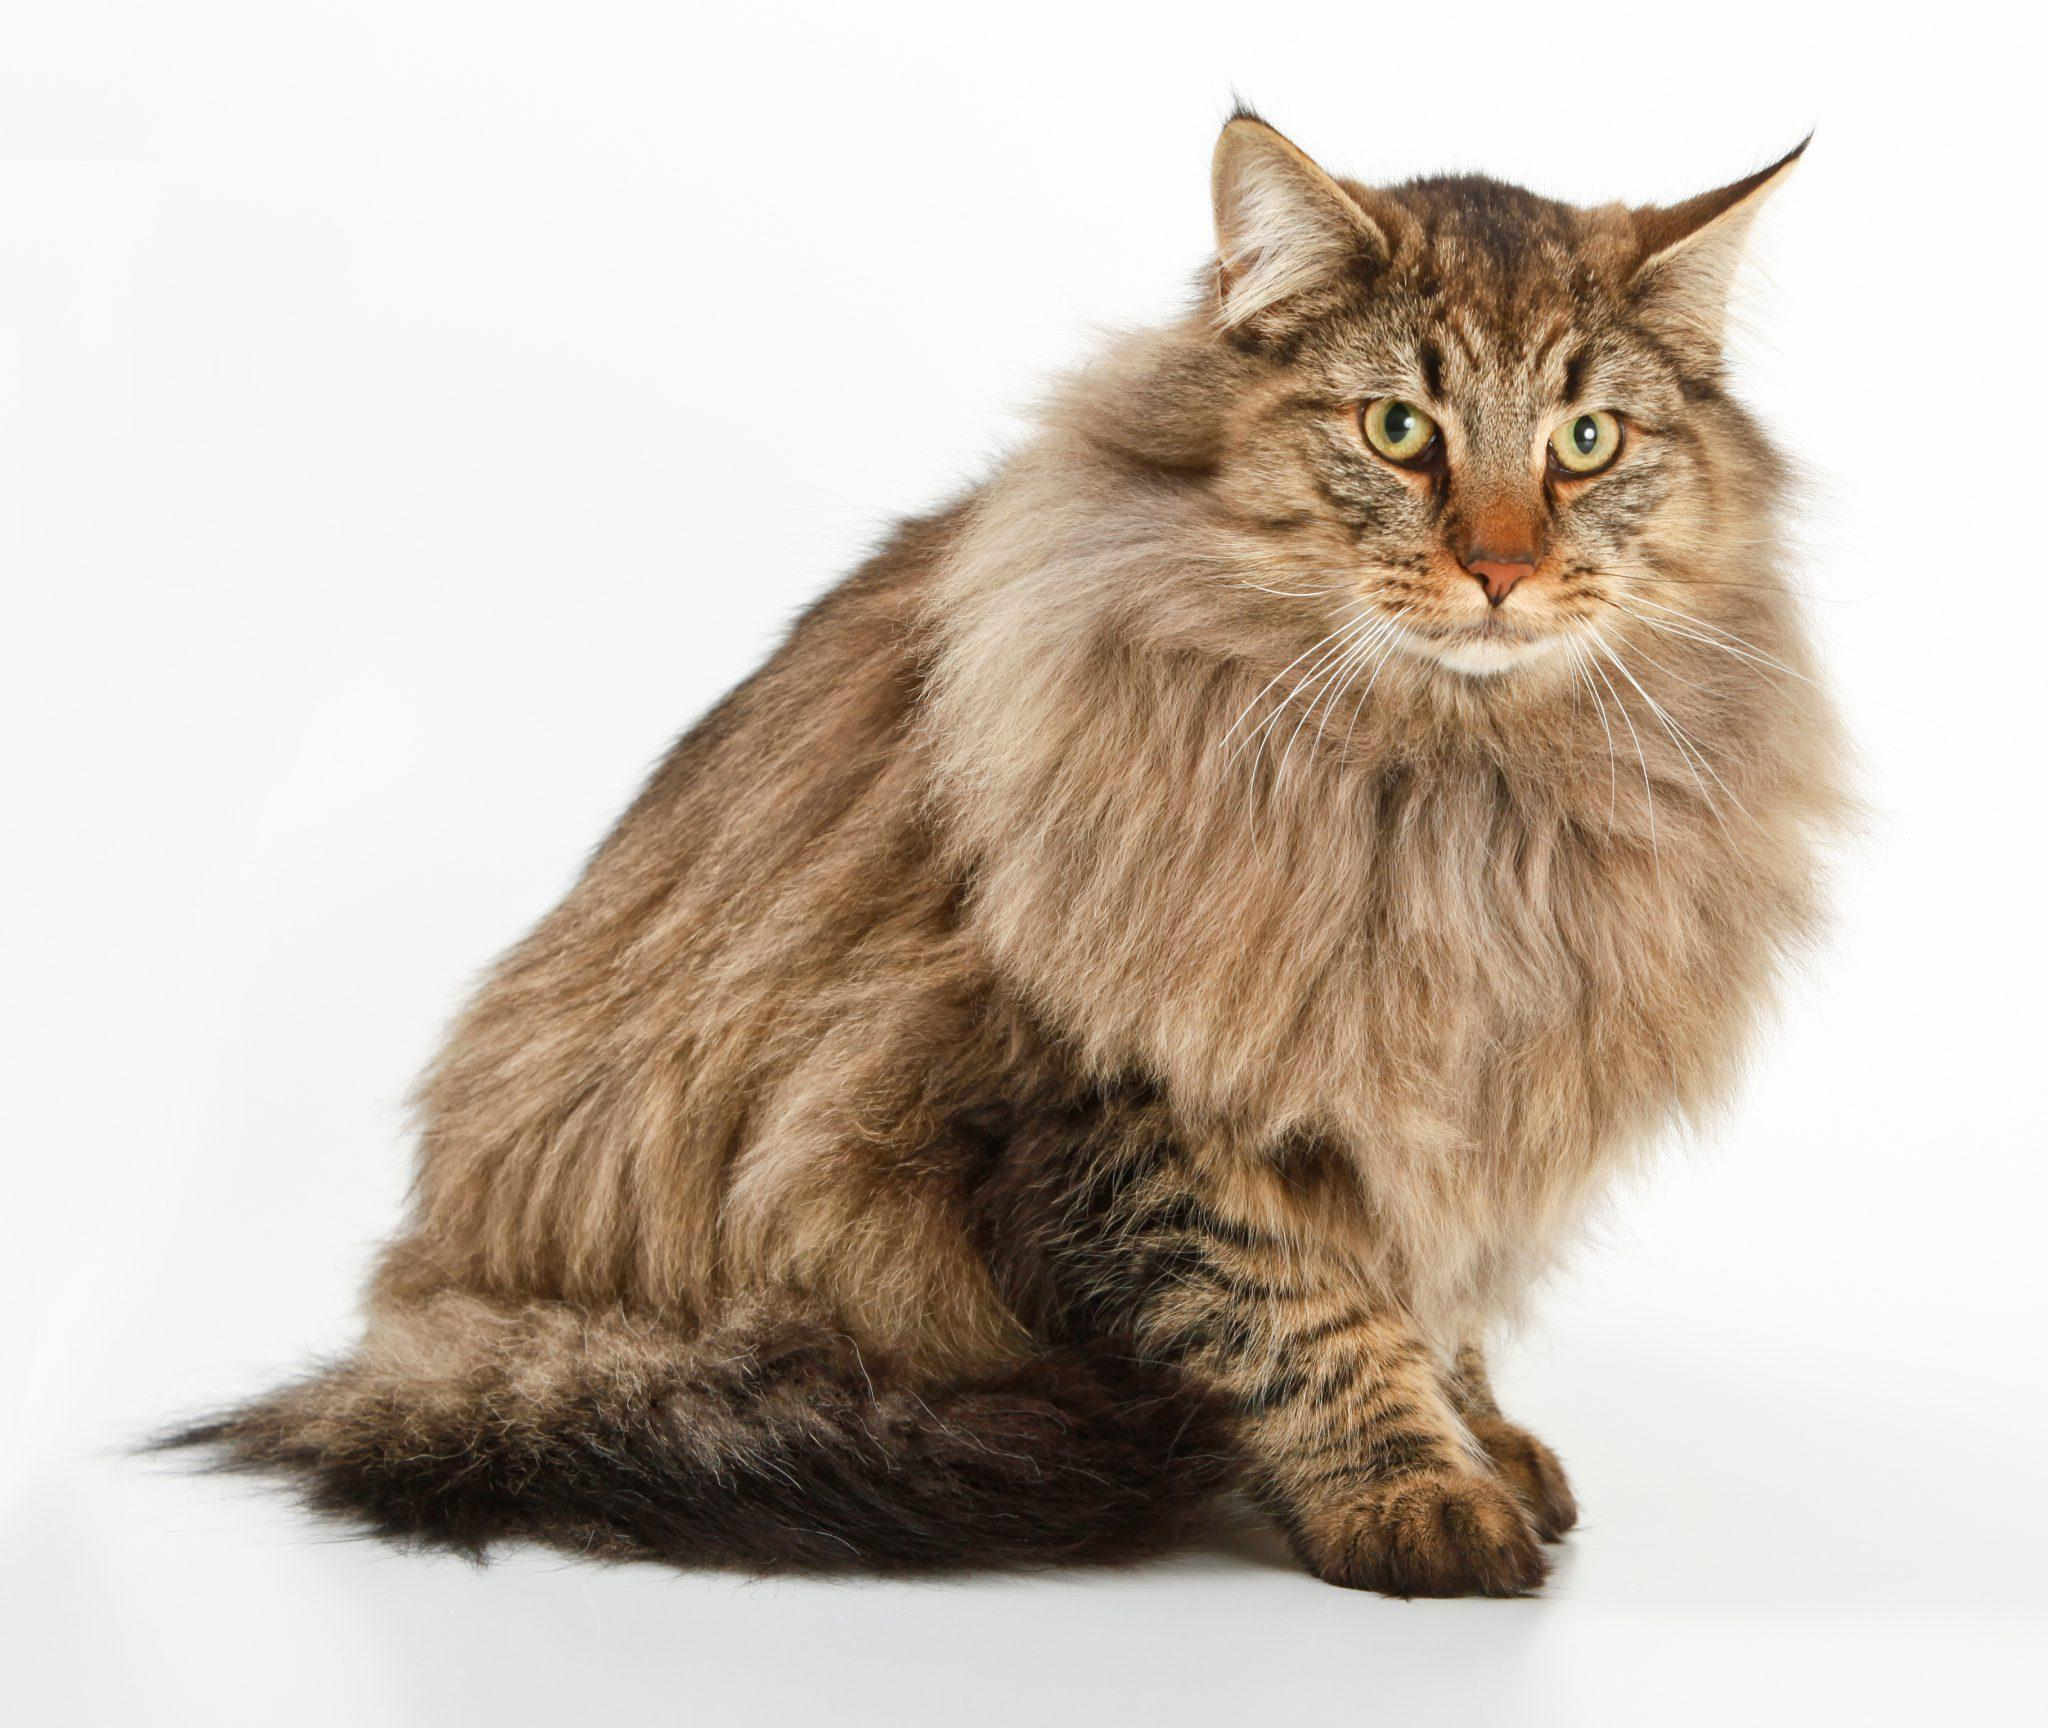cat: (153, 113, 1880, 1610)
